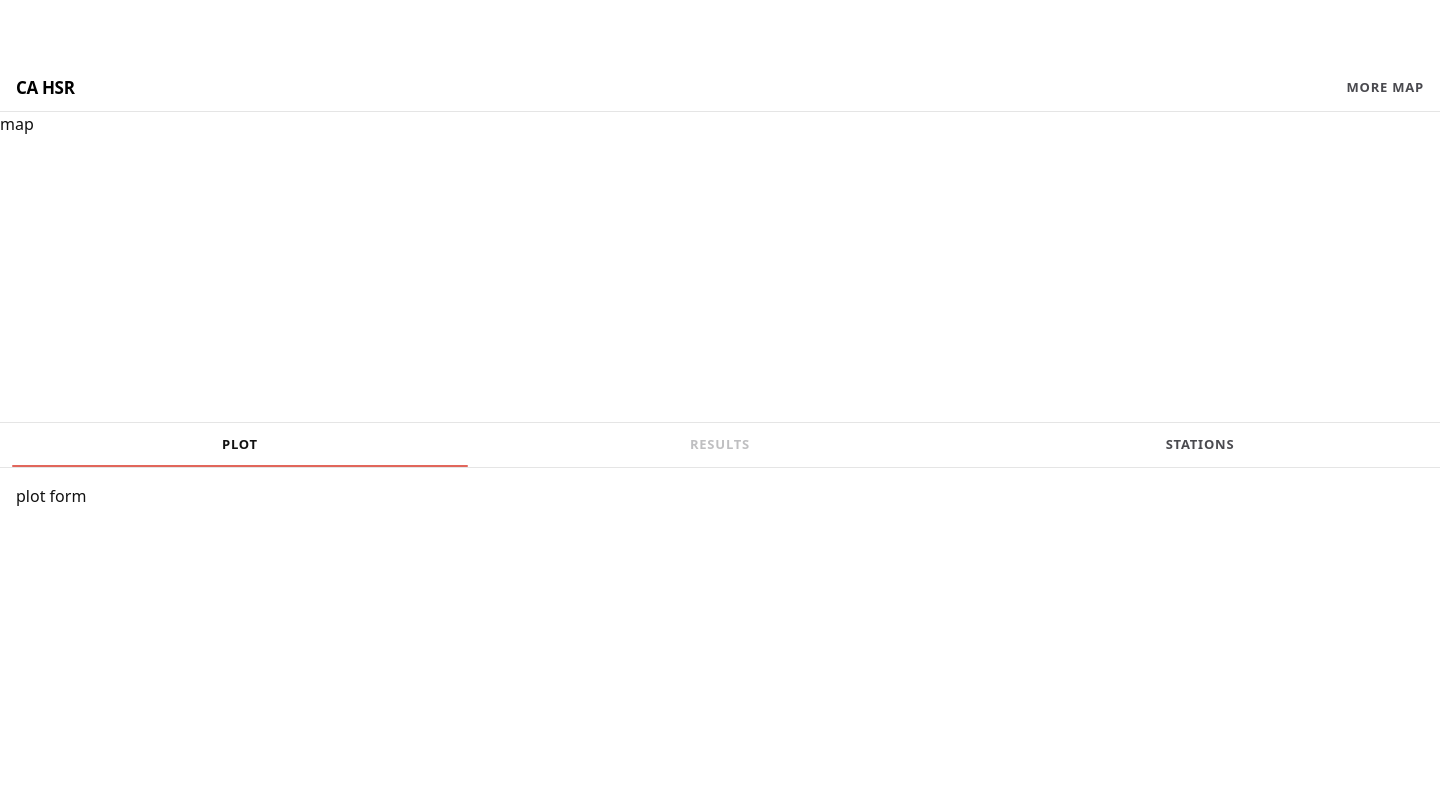
Test: PhoneMapPage › expands a shrunk panel when a tab is chosen
Click the button with test id "phone-panel-toggle": (1385, 88) [1346, 78, 1424, 97]
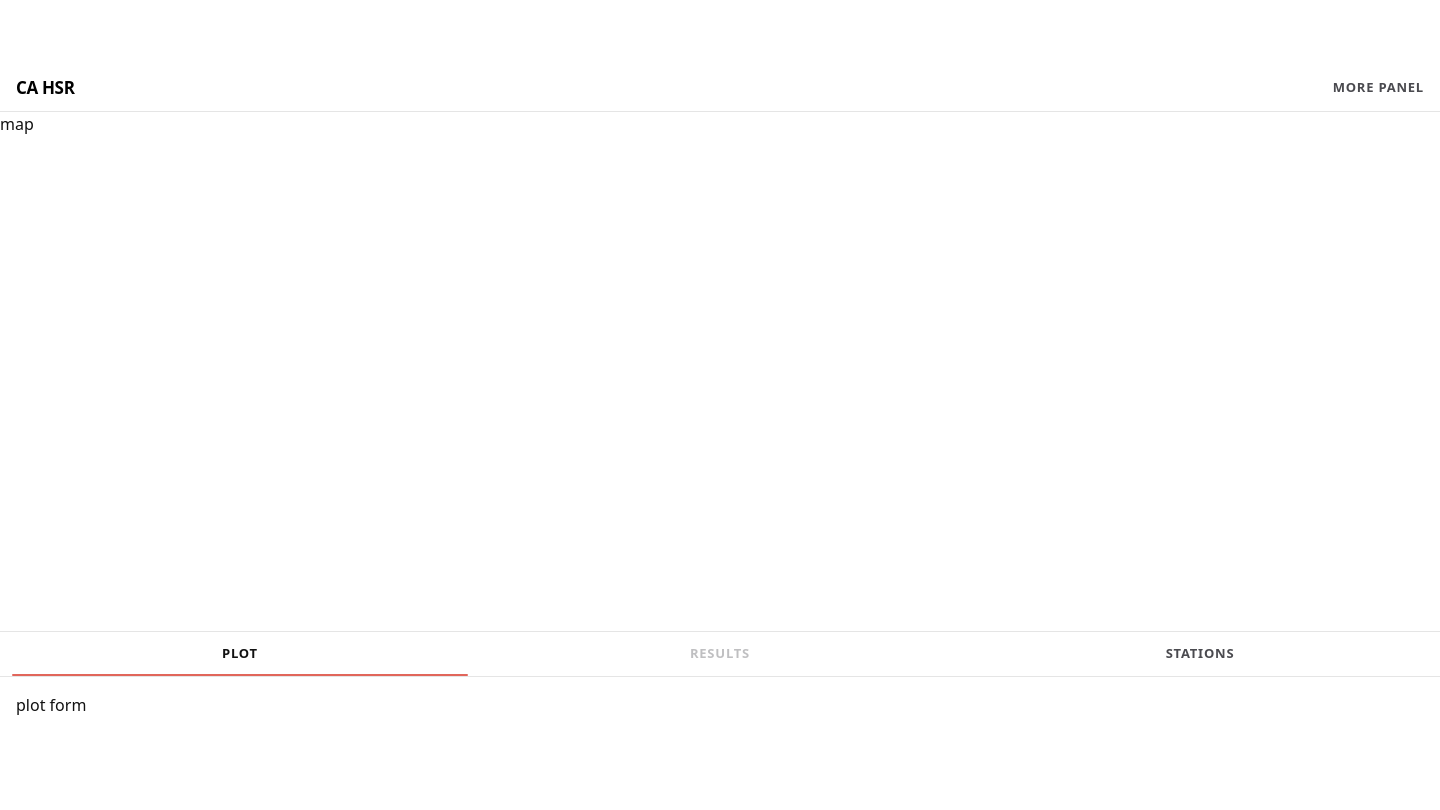
Expected: the button with test id "phone-panel-toggle" is collapsed, [1333, 78, 1424, 97]
Click the tab "Stations": (1200, 654) [960, 632, 1439, 676]
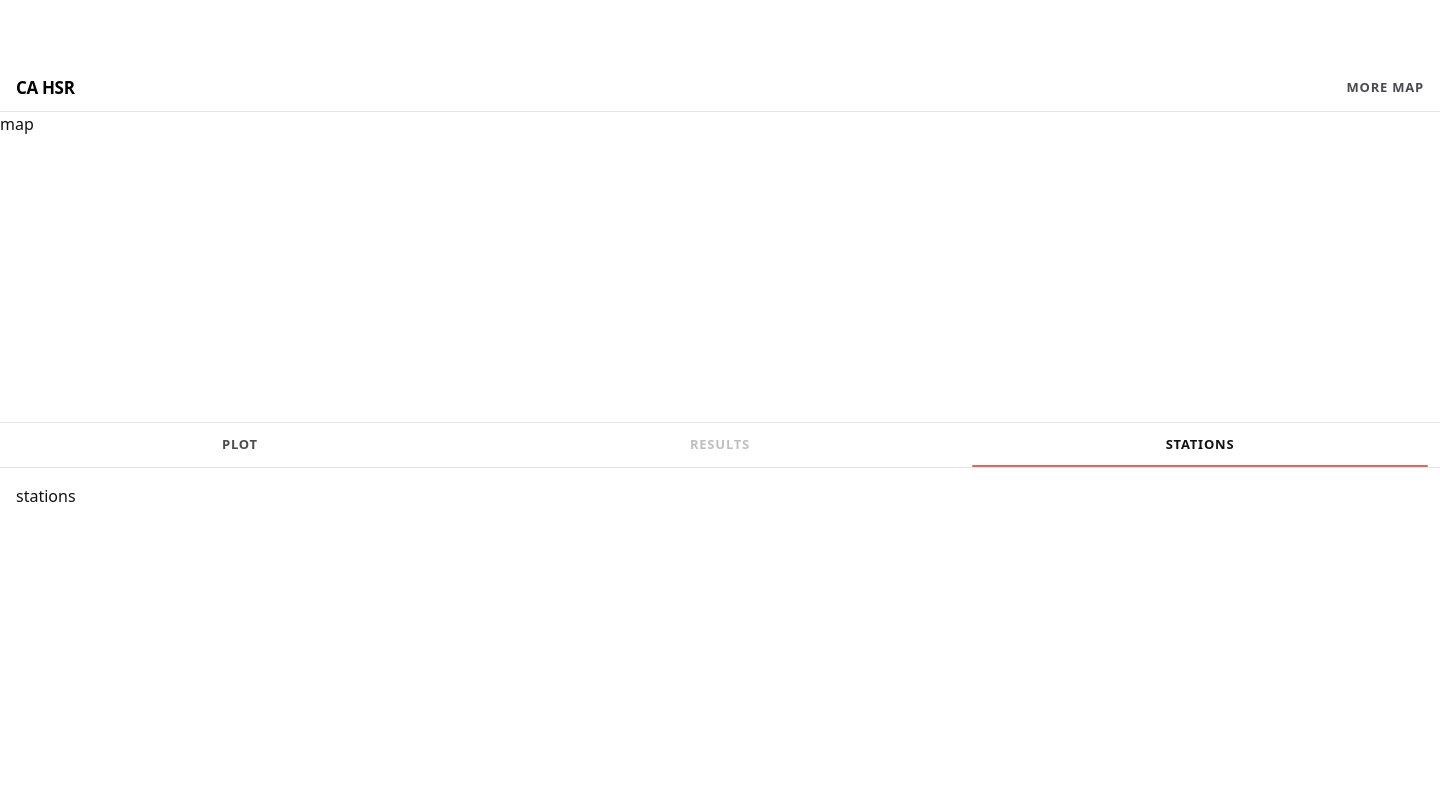
Expected: the button with test id "phone-panel-toggle" is expanded, [1346, 78, 1424, 97]
